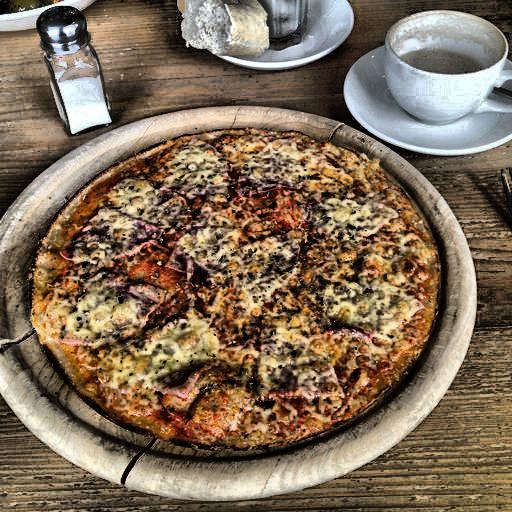pizza: (9, 119, 468, 501)
